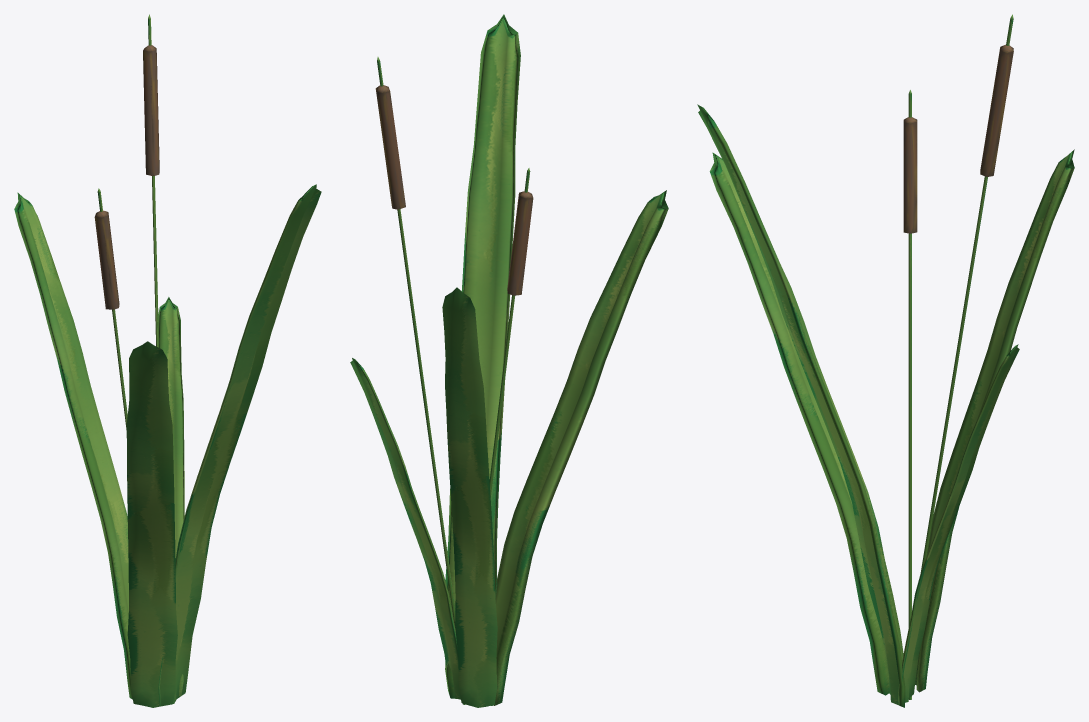
Rendered from Cattail_03.fbx.
3 renders of one model, left to right at view 1: azimuth 30°, elevation 25°; view 2: azimuth 150°, elevation 25°; view 3: azimuth 270°, elevation 25°, orthographic. The views are drawn at different scales.
Visible parts, largest first — view 1: Cattail_07; view 2: Cattail_07; view 3: Cattail_07.
Part boxes in pixels (box(x1,y1,x2,y2)): Cattail_07: box(14, 14, 321, 707); Cattail_07: box(350, 14, 668, 707); Cattail_07: box(697, 14, 1074, 707).
Size of the model in its own units: 4.87 by 16.46 by 7.99.
